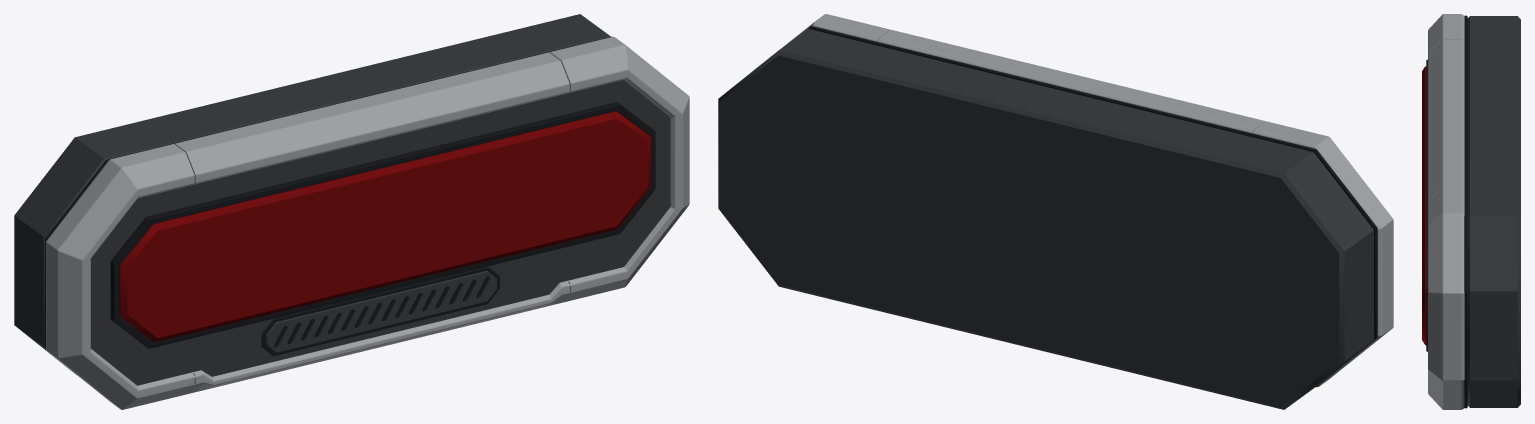
The model's file is LabAlarm_Concept01.fbx.
The picture shows the model from 3 angles, left to right: view 1: azimuth 30°, elevation 25°; view 2: azimuth 150°, elevation 25°; view 3: azimuth 270°, elevation 25°; orthographic projection. The views are drawn at different scales.
Parts seen in each view (by area): view 1: SM_Alarm_EmissiveLens, SM_Alarm_MetalFrame, SM_Alarm_Fascia1, SM_Alarm_Housing, SM_Alarm_LensSocket, SM_Alarm_SpeakerGrille1, SM_Alarm_SpeakerRecess, SM_Alarm_HousingSeal; view 2: SM_Alarm_Housing, SM_Alarm_MetalFrame, SM_Alarm_HousingSeal; view 3: SM_Alarm_Housing, SM_Alarm_MetalFrame, SM_Alarm_HousingSeal, SM_Alarm_EmissiveLens, SM_Alarm_LensSocket.
Part boxes in pixels (<box>): SM_Alarm_EmissiveLens: <box>119,111,650,342</box>; SM_Alarm_MetalFrame: <box>46,36,689,409</box>; SM_Alarm_Fascia1: <box>91,80,670,385</box>; SM_Alarm_Housing: <box>14,14,610,373</box>; SM_Alarm_LensSocket: <box>110,102,655,348</box>; SM_Alarm_SpeakerGrille1: <box>266,270,496,352</box>; SM_Alarm_SpeakerRecess: <box>261,266,499,355</box>; SM_Alarm_HousingSeal: <box>45,36,611,348</box>; SM_Alarm_Housing: <box>718,29,1373,409</box>; SM_Alarm_MetalFrame: <box>785,14,1393,387</box>; SM_Alarm_HousingSeal: <box>808,26,1377,387</box>; SM_Alarm_Housing: <box>1467,16,1520,407</box>; SM_Alarm_MetalFrame: <box>1428,14,1464,409</box>; SM_Alarm_HousingSeal: <box>1464,15,1467,408</box>; SM_Alarm_EmissiveLens: <box>1422,66,1426,345</box>; SM_Alarm_LensSocket: <box>1426,59,1427,351</box>.
Bounding box in the file's own units: 30 × 11 × 5.
